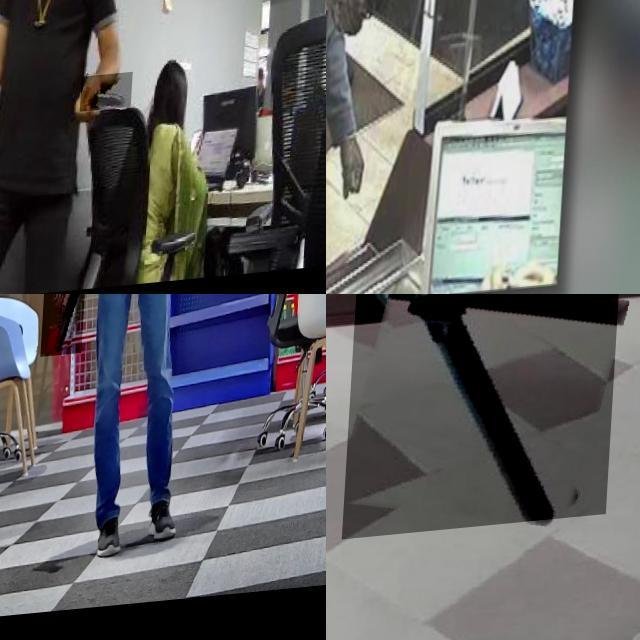-: (348, 294, 623, 543), (86, 81, 138, 119)
gun-knife-thesis - v11 Yolov5 augmented: (45, 294, 90, 362), (326, 0, 364, 59), (353, 0, 396, 36)
